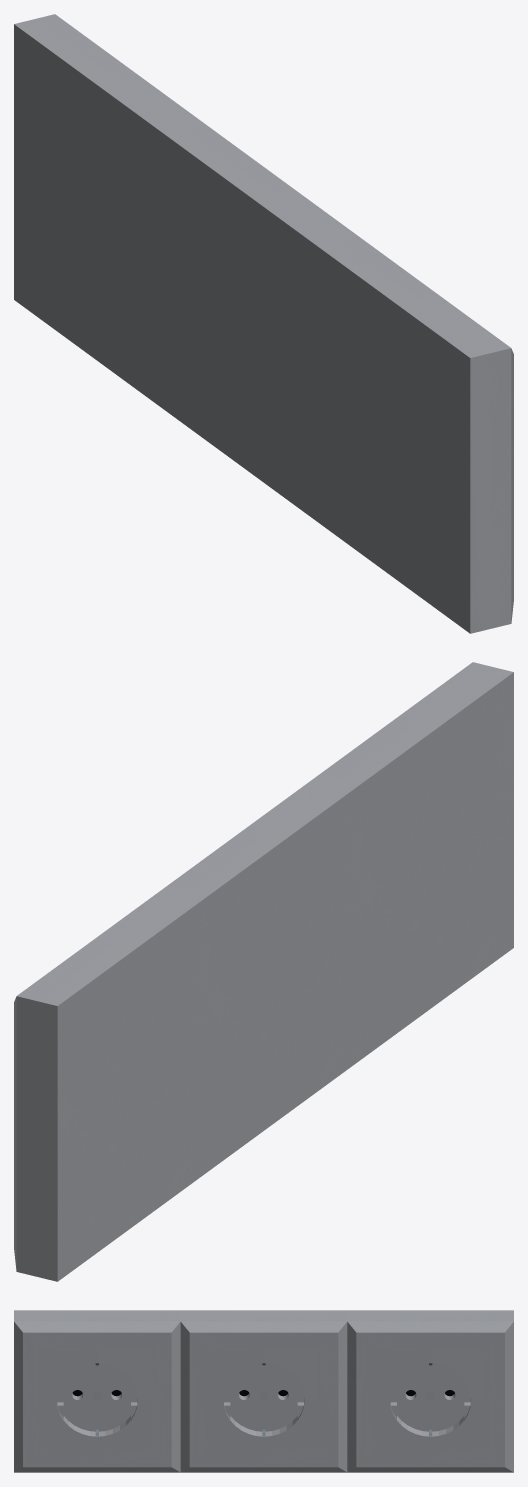
Rendered from Steckdose_3er_weiß.fbx.
3 views of the same model, one above another, from view 1: azimuth 30°, elevation 25°; view 2: azimuth 150°, elevation 25°; view 3: azimuth 270°, elevation 25° (orthographic). The views are drawn at different scales.
Parts seen in each view (by area): view 1: steckdose; view 2: steckdose; view 3: steckdose.
Part boxes in pixels (box(x1,y1,x2,y2)): steckdose: box(14, 14, 513, 633); steckdose: box(14, 662, 513, 1281); steckdose: box(14, 1310, 513, 1472).
Bounding box in the file's own units: 1.62 × 8.2 × 24.6.
